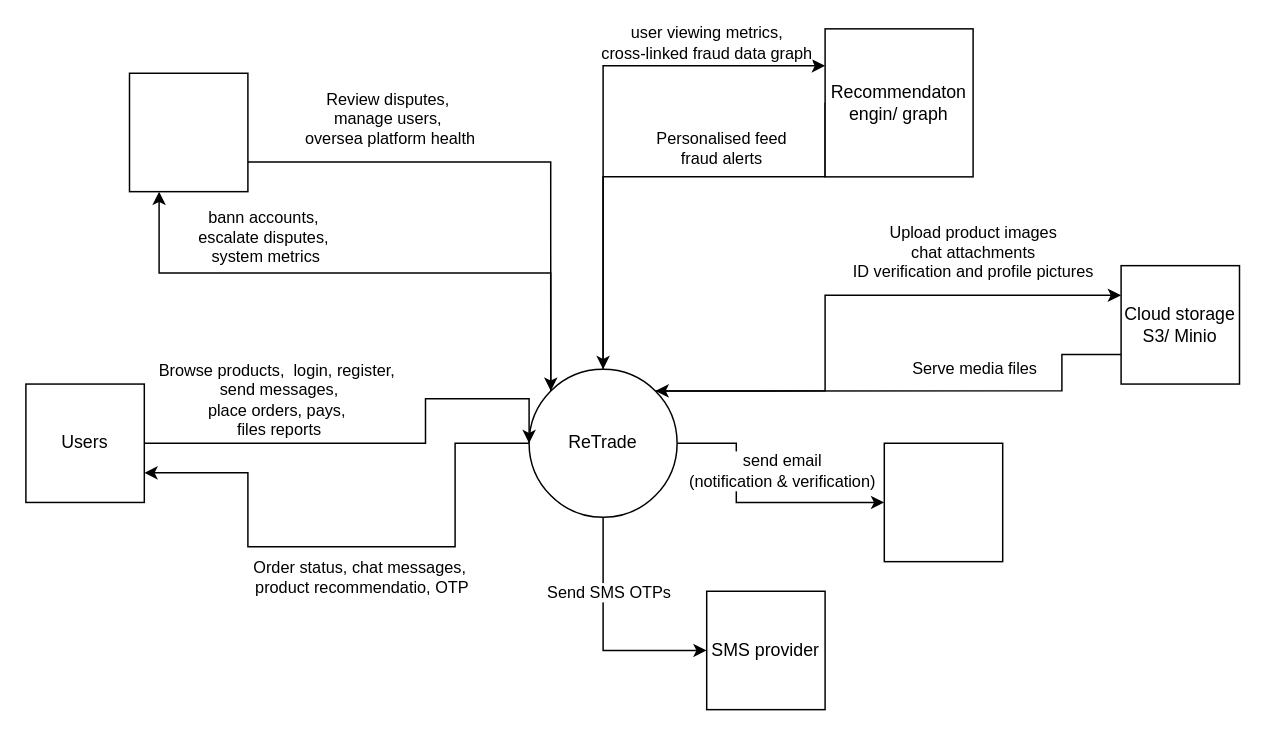
Some shapes in this 1265 by 736 pixel diagram are drawn without their labels. Each missing label, with the box of its shape:
Administrators: (128, 72, 248, 192)
Email Provider: (883, 442, 1003, 562)
